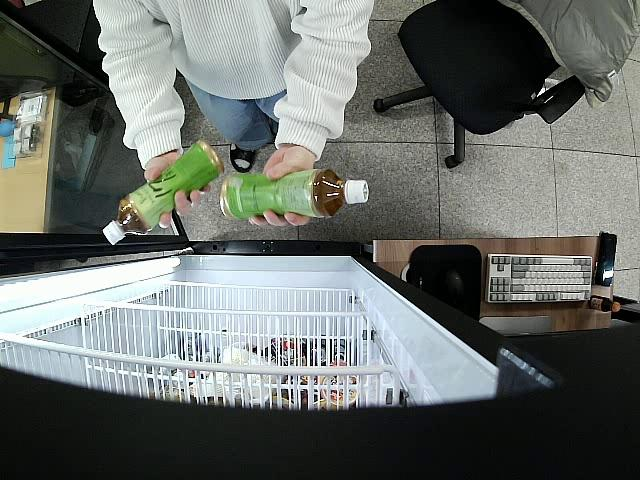00_hand: (248, 149, 314, 227), (145, 159, 212, 229)
19_17cha: (104, 140, 224, 249), (220, 169, 369, 221)
